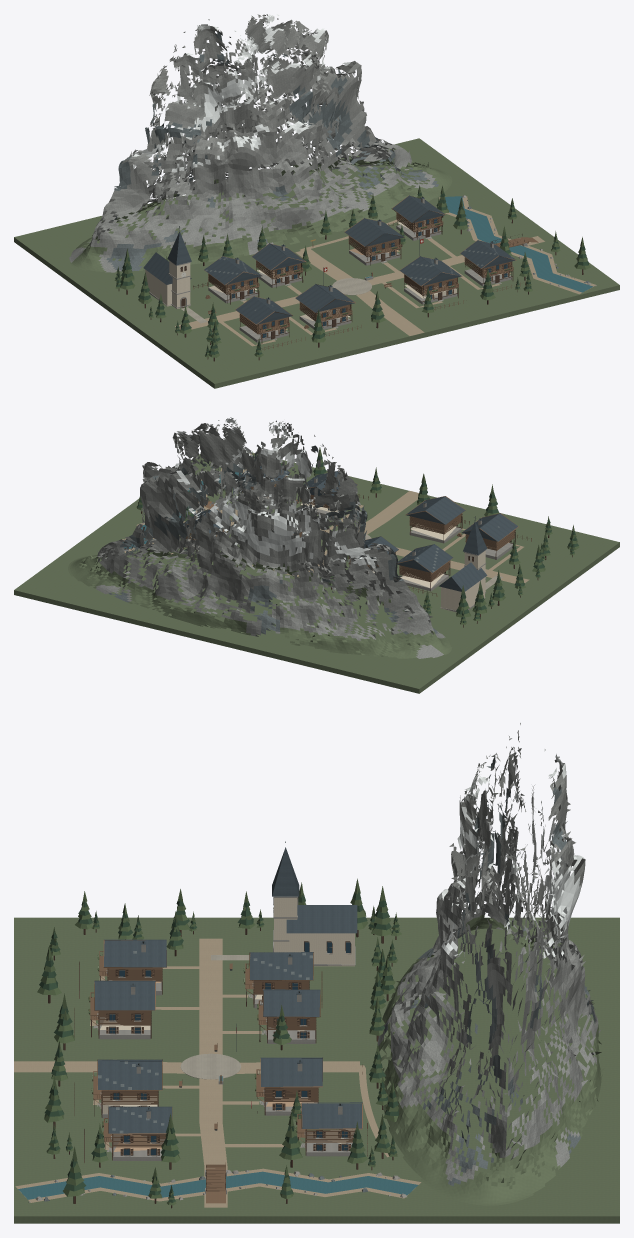
Rendered from CH_Alps_LOD1.glb.
The picture shows the model from 3 angles, top to bottom: view 1: azimuth 30°, elevation 25°; view 2: azimuth 150°, elevation 25°; view 3: azimuth 270°, elevation 25°; orthographic projection. The views are drawn at different scales.
Visible parts, largest first — view 1: SW_Mountain_LOD1, CH_Alps_Ground_LOD1, SW_Roofs_LOD1, SW_Firs_Needles_LOD1, SW_Lanes_LOD1, SW_RoofSlates_LOD1, SW_Foundations_LOD1, SW_LogBoards_LOD1, SW_Water_LOD1, SW_Church_LOD1, SW_RiverBanks_LOD1, SW_RoofEdges_LOD1 (+8 smaller); view 2: SW_Mountain_LOD1, CH_Alps_Ground_LOD1, SW_Roofs_LOD1, SW_Firs_Needles_LOD1, SW_Lanes_LOD1, SW_LogBoards_LOD1, SW_RoofSlates_LOD1, SW_Church_LOD1, SW_Foundations_LOD1, SW_ChaletWalls_LOD1, SW_RoofEdges_LOD1, SW_ChurchSpire_LOD1; view 3: CH_Alps_Ground_LOD1, SW_Mountain_LOD1, SW_Firs_Needles_LOD1, SW_Roofs_LOD1, SW_Lanes_LOD1, SW_RoofSlates_LOD1, SW_LogBoards_LOD1, SW_Water_LOD1, SW_Foundations_LOD1, SW_Church_LOD1, SW_RiverBanks_LOD1, SW_RoofEdges_LOD1 (+7 smaller).
Boxes of the visible parts, x1,y1,x2,y2 form: SW_Mountain_LOD1: (69, 14, 452, 272); CH_Alps_Ground_LOD1: (14, 138, 619, 388); SW_Roofs_LOD1: (143, 196, 515, 324); SW_Firs_Needles_LOD1: (114, 185, 590, 357); SW_Lanes_LOD1: (175, 236, 544, 346); SW_RoofSlates_LOD1: (204, 240, 515, 317); SW_Foundations_LOD1: (149, 223, 512, 342); SW_LogBoards_LOD1: (208, 212, 512, 333); SW_Water_LOD1: (366, 196, 593, 292); SW_Church_LOD1: (145, 261, 190, 308); SW_RiverBanks_LOD1: (439, 196, 596, 294); SW_RoofEdges_LOD1: (204, 195, 516, 325); SW_Mountain_LOD1: (68, 417, 452, 658); CH_Alps_Ground_LOD1: (14, 451, 619, 693); SW_Roofs_LOD1: (183, 475, 517, 591); SW_Firs_Needles_LOD1: (136, 447, 579, 624); SW_Lanes_LOD1: (204, 491, 529, 589); SW_LogBoards_LOD1: (186, 476, 514, 582); SW_RoofSlates_LOD1: (239, 466, 508, 572); SW_Church_LOD1: (441, 551, 485, 611); SW_Foundations_LOD1: (184, 493, 512, 612); SW_ChaletWalls_LOD1: (190, 486, 509, 587); SW_RoofEdges_LOD1: (184, 468, 518, 573); SW_ChurchSpire_LOD1: (463, 521, 486, 555); CH_Alps_Ground_LOD1: (14, 917, 619, 1223); SW_Mountain_LOD1: (377, 723, 604, 1205); SW_Firs_Needles_LOD1: (37, 878, 401, 1205); SW_Roofs_LOD1: (94, 905, 361, 1133); SW_Lanes_LOD1: (14, 938, 359, 1207); SW_RoofSlates_LOD1: (98, 940, 313, 1133); SW_LogBoards_LOD1: (98, 967, 355, 1147); SW_Water_LOD1: (18, 1076, 417, 1199); SW_Foundations_LOD1: (93, 946, 355, 1160); SW_Church_LOD1: (274, 898, 354, 966); SW_RiverBanks_LOD1: (15, 1168, 421, 1202); SW_RoofEdges_LOD1: (94, 939, 362, 1133).
Bounding box in the file's own units: 140 × 66.55 × 120.
21 materials, 21 textured.
